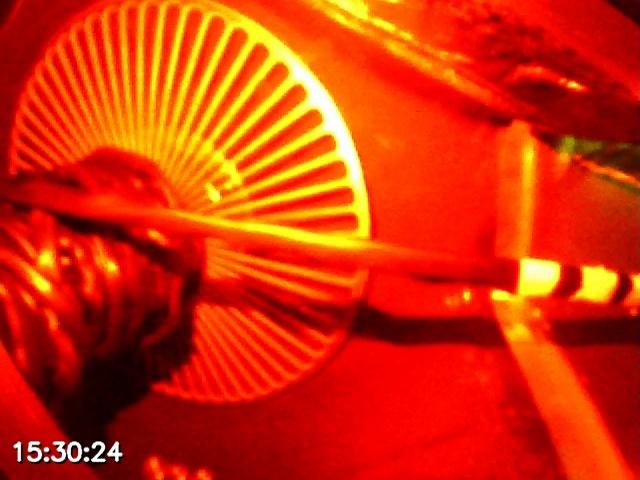white-dots: (517, 255, 640, 317)
